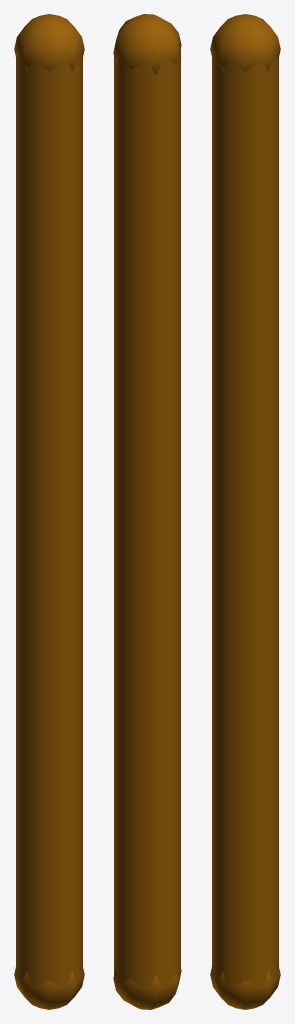
Rendered from bansuri.glb.
3 views of the same model, side by side, from view 1: azimuth 90°, elevation 25°; view 2: azimuth 150°, elevation 25°; view 3: azimuth 270°, elevation 25° (orthographic).
Parts seen in each view (by area): view 1: flute; view 2: flute; view 3: flute.
Boxes of the visible parts, x1=… form: flute: x1=14, y1=14, x2=84, y2=1009; flute: x1=113, y1=14, x2=181, y2=1009; flute: x1=210, y1=14, x2=280, y2=1009.
Bounding box in the file's own units: 0.038 × 0.588 × 0.038.
